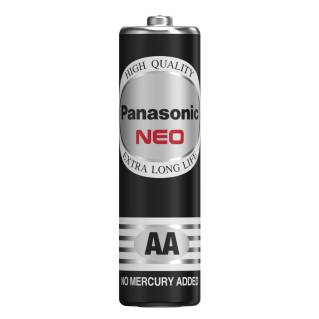Battery: (115, 13, 206, 310)
